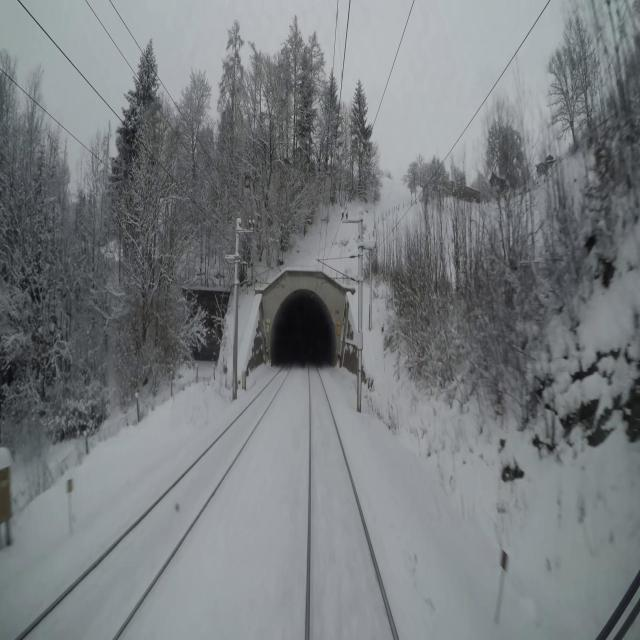rail-track: (23, 363, 291, 639), (309, 357, 393, 639)
